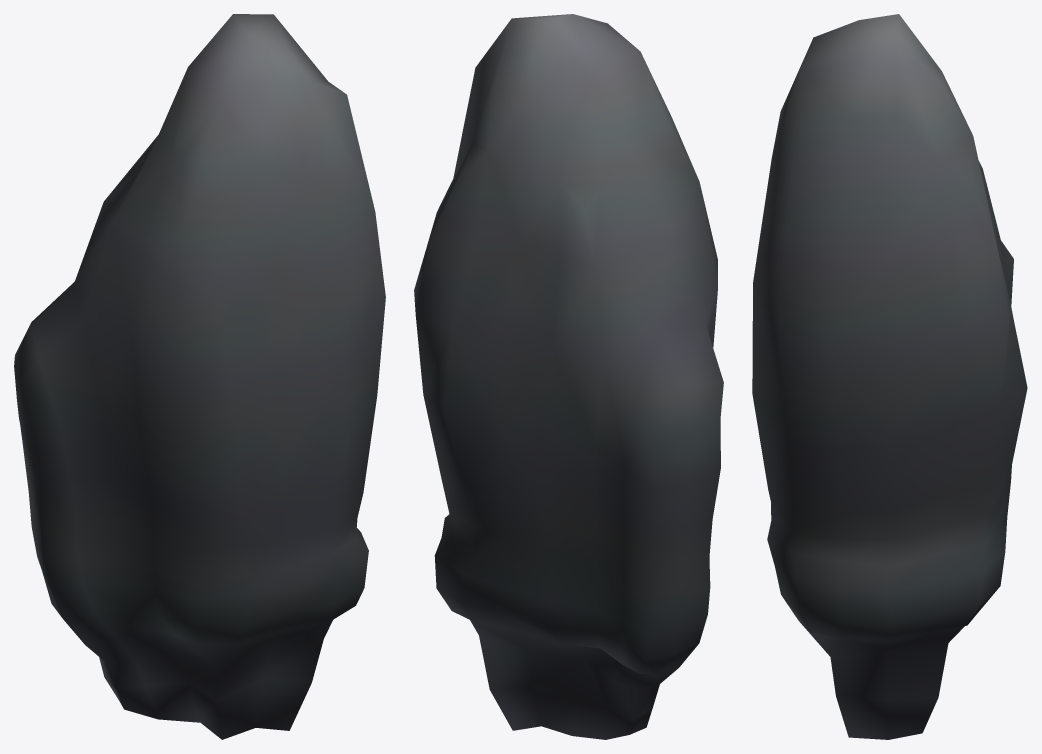
The model's file is M_Environment_StoneL_05.fbx.
The picture shows the model from 3 angles, left to right: view 1: azimuth 30°, elevation 25°; view 2: azimuth 150°, elevation 25°; view 3: azimuth 270°, elevation 25°; orthographic projection.
Visible parts, largest first — view 1: M_Environment_StoneL_05; view 2: M_Environment_StoneL_05; view 3: M_Environment_StoneL_05.
Part boxes in pixels (x1,y1,x2,y2): M_Environment_StoneL_05: [14, 14, 385, 739]; M_Environment_StoneL_05: [414, 14, 723, 739]; M_Environment_StoneL_05: [752, 14, 1027, 739].
Size of the model in its own units: 874 by 1950 by 684.
1 material, 1 textured.
